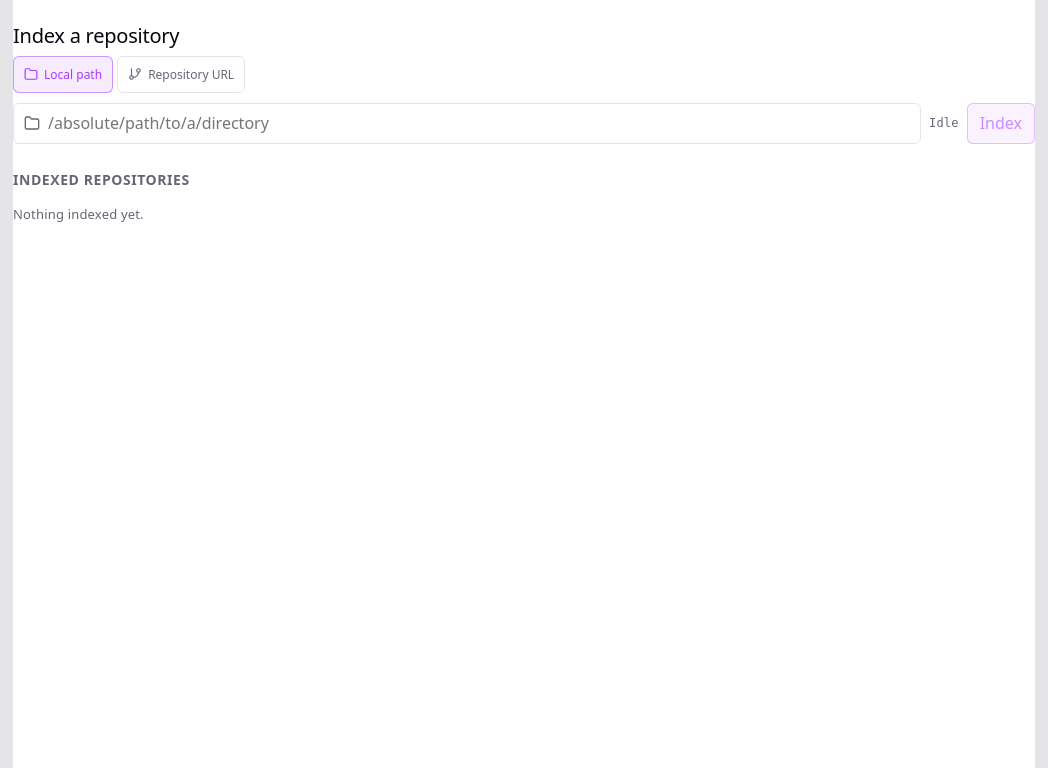
Test: IndexPanel › starts indexing and shows the summary once the job reports Done
The width and height of the screenshot is (1048, 768).
Type "/repo/src" into the field named "Directory path" at (479, 123), box [48,104,910,143]
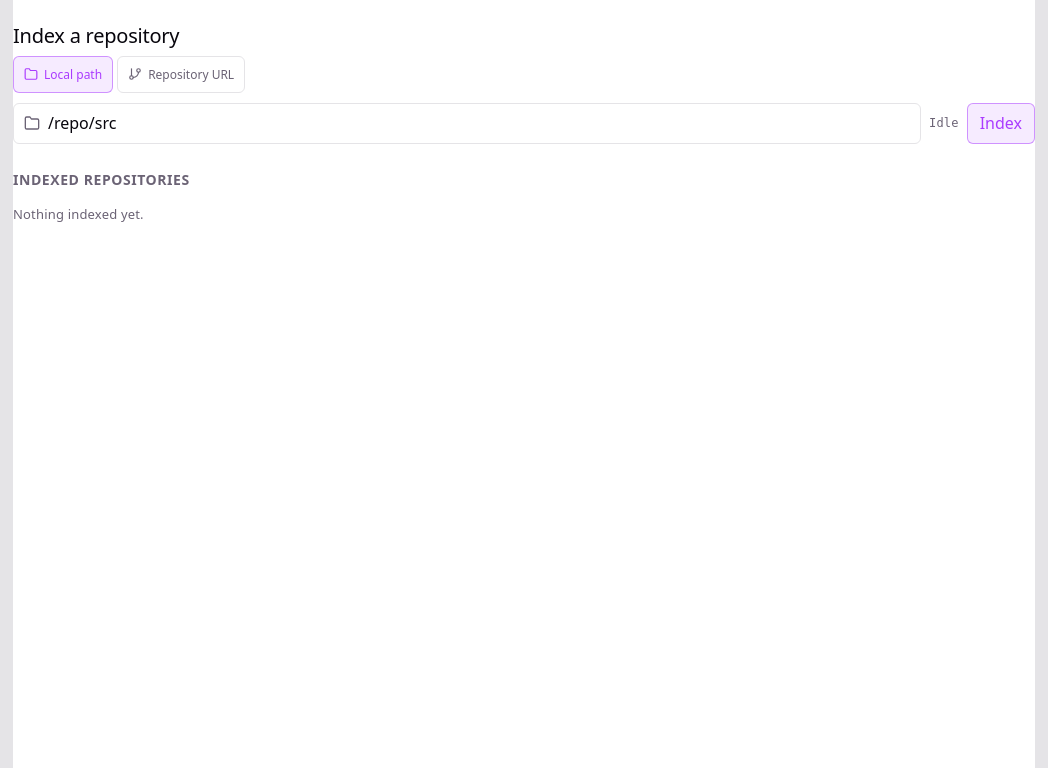
Submit the form, box [13,103,1035,144]
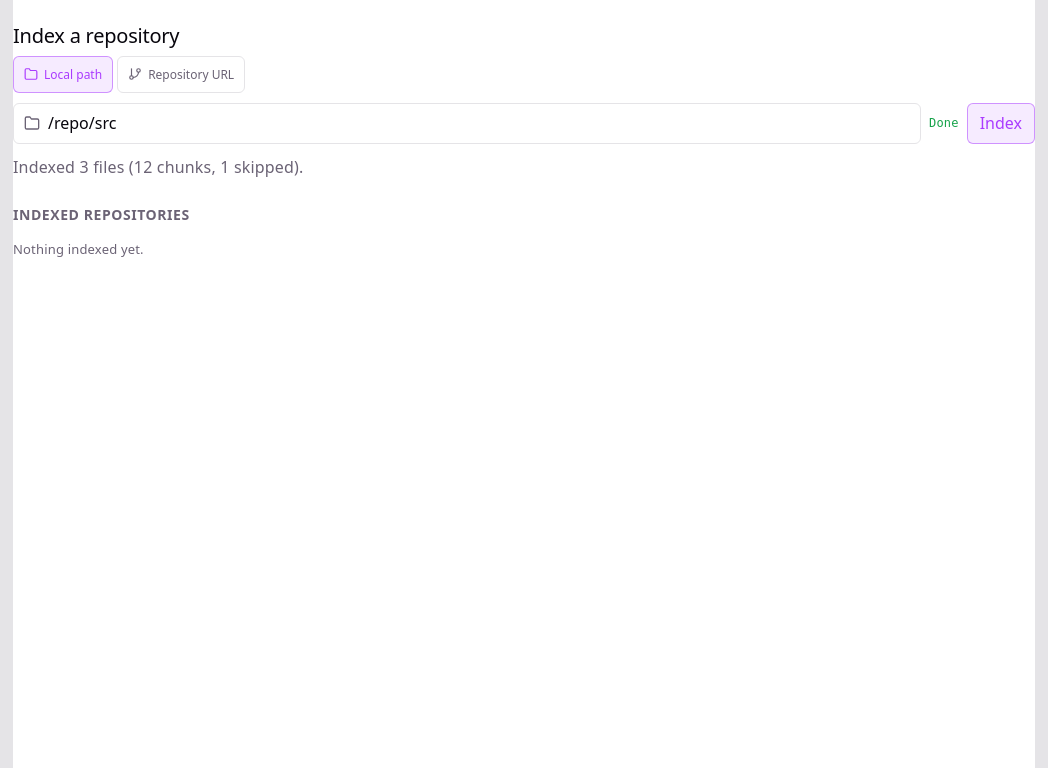
Check: the text "Indexed 3 files" is shown, box [13,156,212,178]
Check: the text "12 chunks" is shown, box [13,156,212,178]
Check: the text "1 skipped" is shown, box [212,156,294,178]
